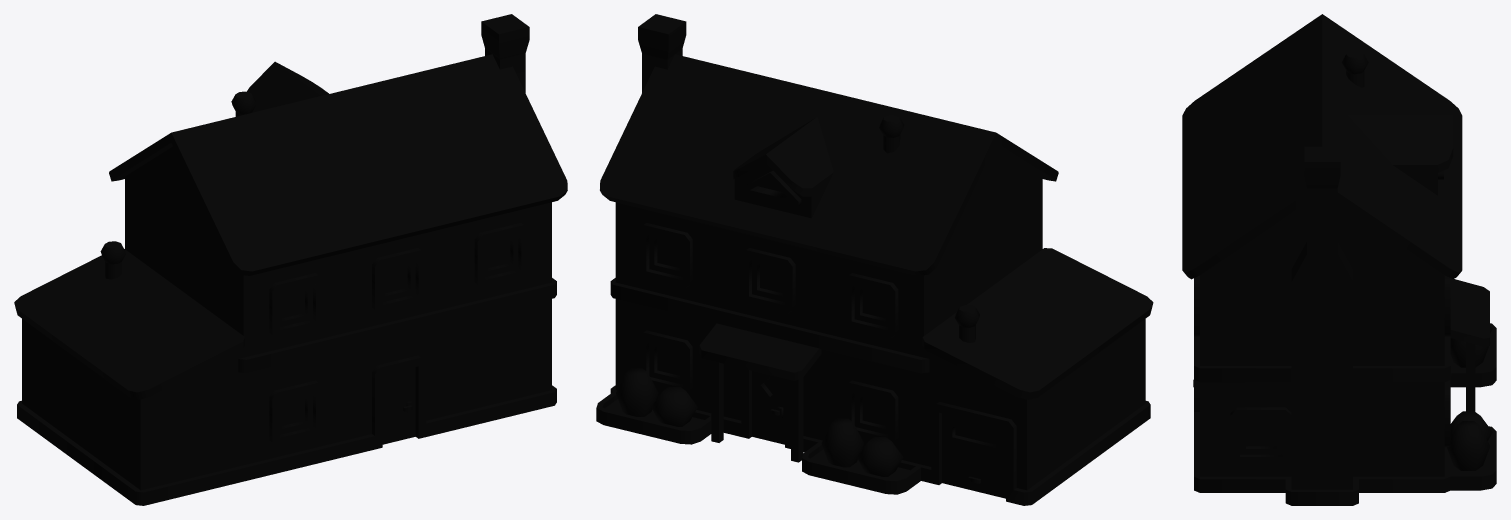
Rendered from building-type-d.glb.
The picture shows the model from 3 angles, left to right: view 1: azimuth 30°, elevation 25°; view 2: azimuth 150°, elevation 25°; view 3: azimuth 270°, elevation 25°; orthographic projection. The views are drawn at different scales.
Visible parts, largest first — view 1: building-type-d; view 2: building-type-d; view 3: building-type-d.
Boxes of the visible parts, <box> form: building-type-d: <box>14,14,567,505</box>; building-type-d: <box>596,14,1153,505</box>; building-type-d: <box>1182,14,1496,505</box>.
Bounding box in the file's own units: 1.76 × 1.24 × 1.03.
Materials: 1 (1 with a texture image).
